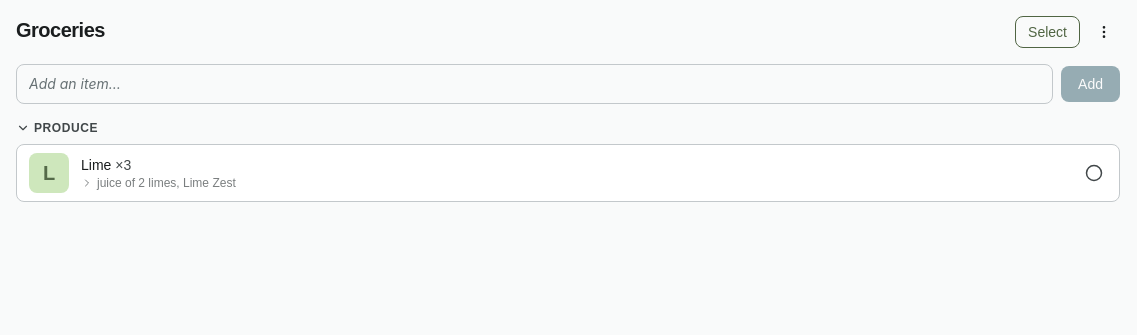
Test: ShoppingListPage — expanded breakdown under a combined product-form row › falls back to the cleaned name for a child written before the field
This screenshot has width=1137, height=335.
Click the button with test id "shopping-combined-toggle".
click(98, 165)  # box [81,155,1069,191]
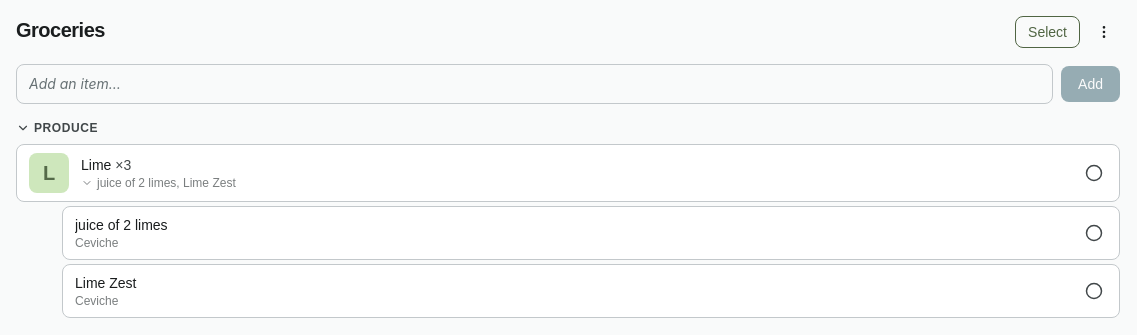
Now the element with test id "shopping-item-row" shows "Lime Zest", box [75,273,1069,309]
